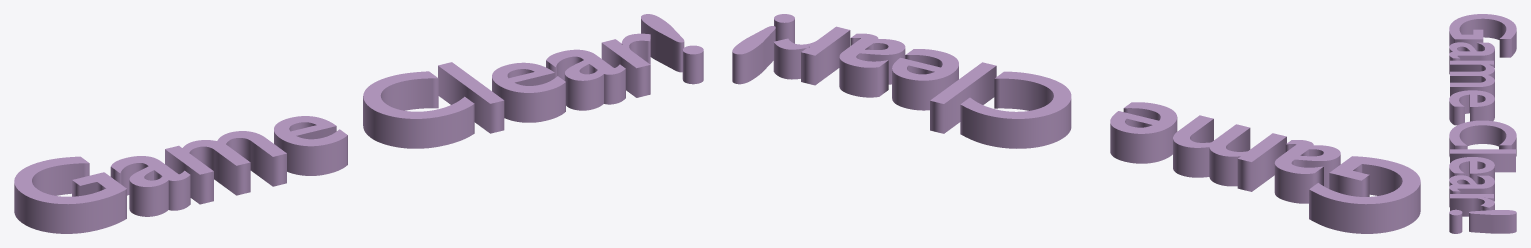
The model's file is Clear.obj.
The picture shows the model from 3 angles, left to right: view 1: azimuth 30°, elevation 25°; view 2: azimuth 150°, elevation 25°; view 3: azimuth 270°, elevation 25°; orthographic projection. The views are drawn at different scales.
Parts seen in each view (by area): view 1: テキスト; view 2: テキスト; view 3: テキスト.
Boxes of the visible parts, box(x1,y1,x2,y2) form: テキスト: box(14, 14, 703, 233); テキスト: box(732, 14, 1420, 233); テキスト: box(1449, 14, 1516, 233).
Bounding box in the file's own units: 5.09 × 0.22 × 0.7201.
